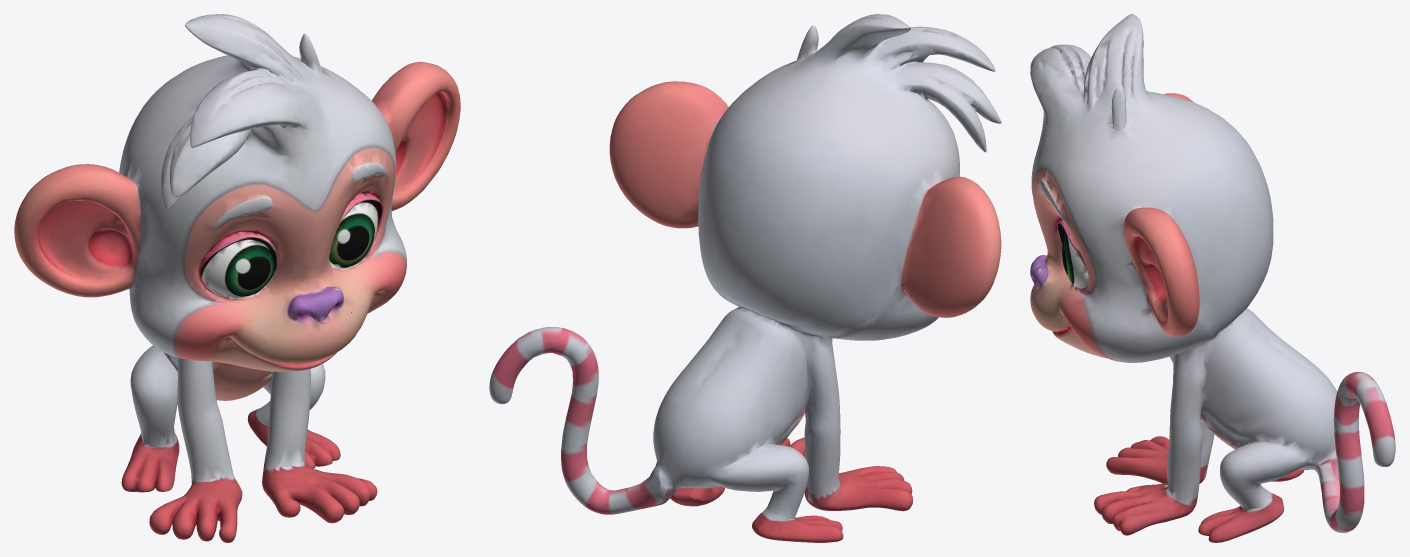
Rendered from monkey-b.glb.
3 renders of one model, left to right at view 1: azimuth 30°, elevation 25°; view 2: azimuth 150°, elevation 25°; view 3: azimuth 270°, elevation 25°, orthographic. The views are drawn at different scales.
Bounding box in the file's own units: 1.71 × 1.9 × 1.41.
Materials: 1 (1 with a texture image).
